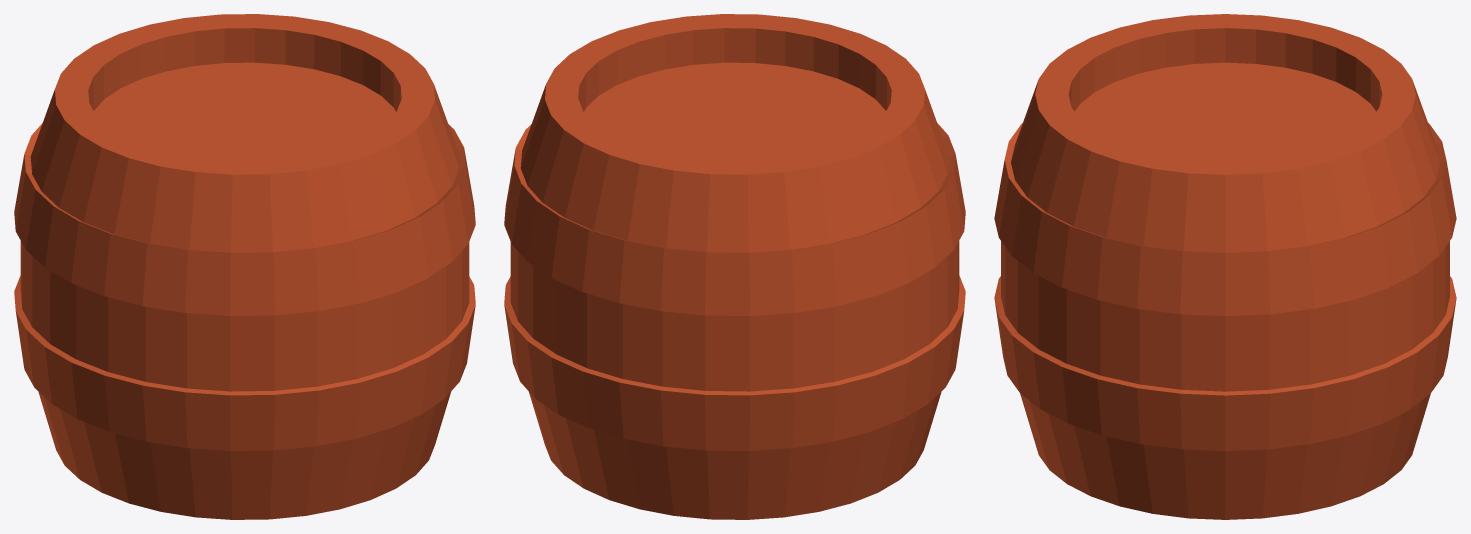
File: Barel.fbx
3 views of the same model, side by side, from view 1: azimuth 30°, elevation 25°; view 2: azimuth 150°, elevation 25°; view 3: azimuth 270°, elevation 25° (orthographic).
Parts seen in each view (by area): view 1: Cylinder; view 2: Cylinder; view 3: Cylinder.
Part boxes in pixels (x1,y1,x2,y2): Cylinder: [14, 14, 475, 519]; Cylinder: [504, 14, 965, 519]; Cylinder: [994, 14, 1456, 519].
Bounding box in the file's own units: 144 × 118 × 144.
